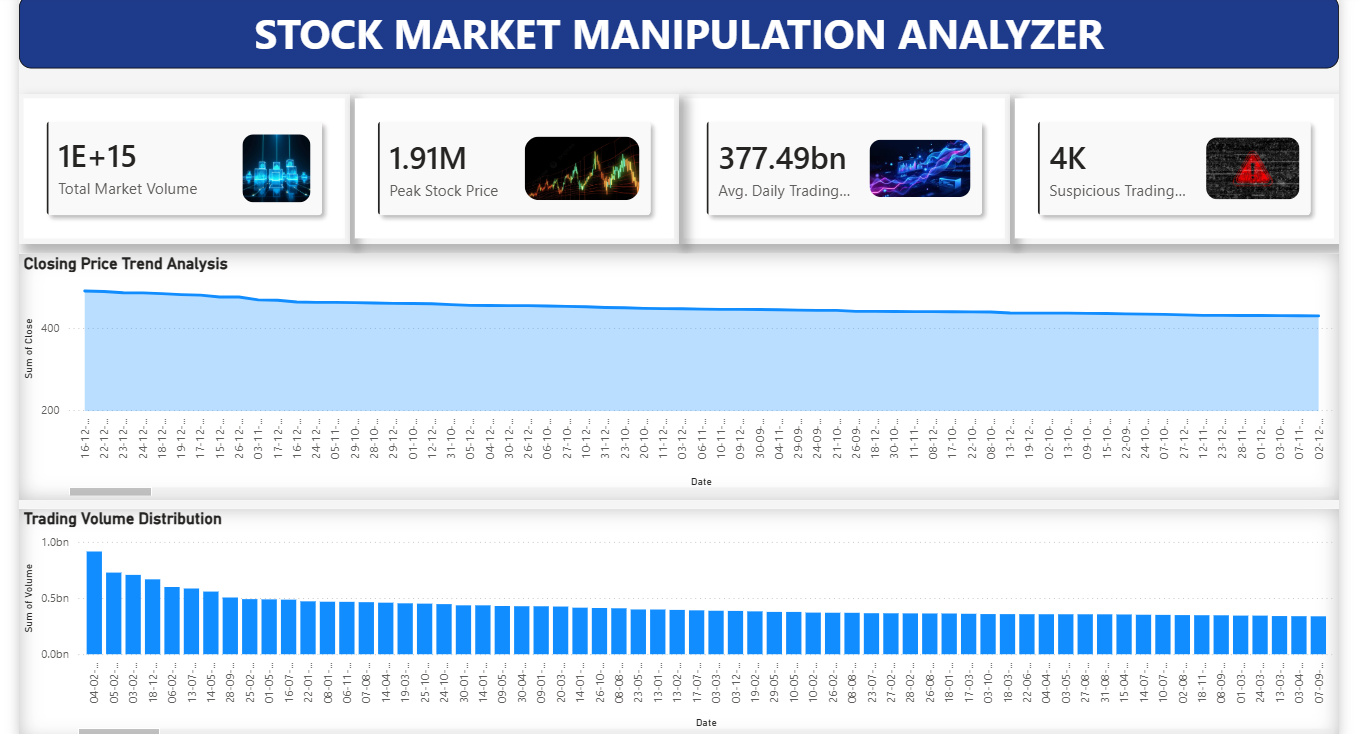

The page's visual inventory and layout, read from the dashboard file:
{"tool":"powerbi","page":{"name":"Market Overview","canvas":[1380,780],"ordinal":0},"visuals":[{"type":"cardVisual","title":"To","fields":{"Data":["Sum(stock_market_analysis tesla_stock.Total_Trading_Volume)"]},"box":[0,103.3,346.3,156.8],"z":0},{"type":"cardVisual","title":"To","fields":{"Data":["Sum(stock_market_analysis tesla_stock.Average_Daily_Volume)"]},"box":[690.1,103.3,346.3,156.8],"z":1000},{"type":"cardVisual","title":"To","fields":{"Data":["Sum(stock_market_analysis tesla_stock.Highest_Stock_Prices)"]},"box":[346.3,103.3,343.7,156.8],"z":2000},{"type":"cardVisual","title":"To","fields":{"Data":["stock_market_analysis tesla_stock.Suspicious_Days_Count"]},"box":[1036.4,103.3,343.7,156.8],"z":3000},{"type":"lineChart","title":"Closing Price Trend Analysis","fields":{"Category":["stock_market_analysis tesla_stock.Date"],"Y":["Sum(stock_market_analysis tesla_stock.Close)"]},"box":[0,270.5,1380.2,257.5],"z":4000},{"type":"clusteredColumnChart","title":"Trading Volume Distribution","fields":{"Category":["stock_market_analysis tesla_stock.Date"],"Y":["Sum(stock_market_analysis tesla_stock.Volume)"]},"box":[0,537.2,1380.2,243.1],"z":5000},{"type":"textbox","box":[0,0,1380.2,77.1],"z":6000}]}

Visuals, with their boxes on the page's 1380x780 design canvas (x1, y1, x2, y2). These are canvas units, not pixel positions in the 1359x734 screenshot, which may show the page scaled, cropped or inside an application window:
"To" cardVisual: 0, 103, 346, 260
"To" cardVisual: 690, 103, 1036, 260
"To" cardVisual: 346, 103, 690, 260
"To" cardVisual: 1036, 103, 1380, 260
"Closing Price Trend Analysis" lineChart: 0, 270, 1380, 528
"Trading Volume Distribution" clusteredColumnChart: 0, 537, 1380, 780
textbox: 0, 0, 1380, 77
